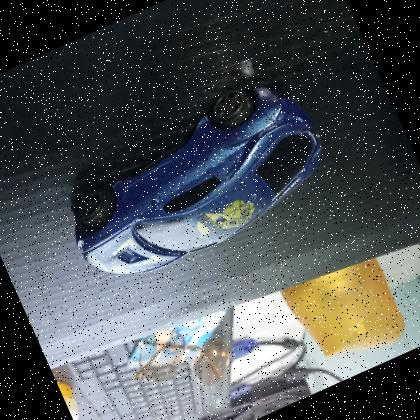Car: (40, 58, 350, 303)
